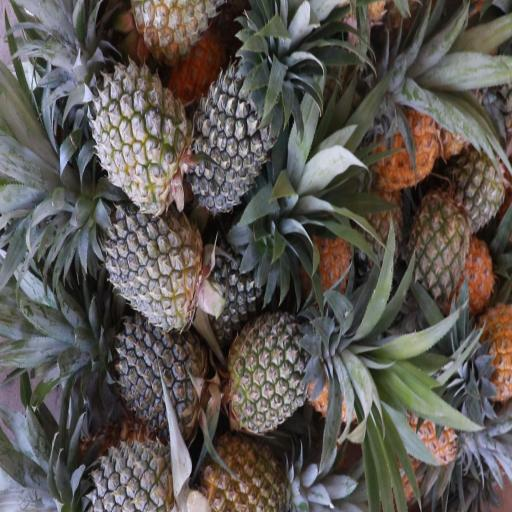------------------------------: (96, 57, 184, 209), (230, 312, 328, 432), (407, 194, 471, 298), (204, 436, 288, 512)
Pineapple - v8 v1: (378, 100, 444, 184), (473, 302, 512, 398)
